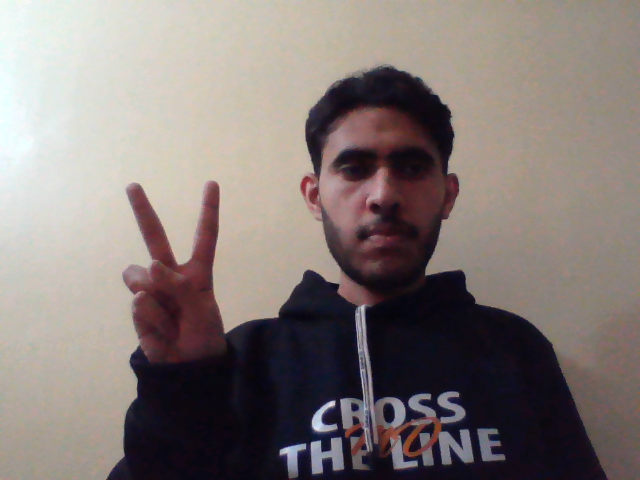V: (118, 175, 240, 382)
